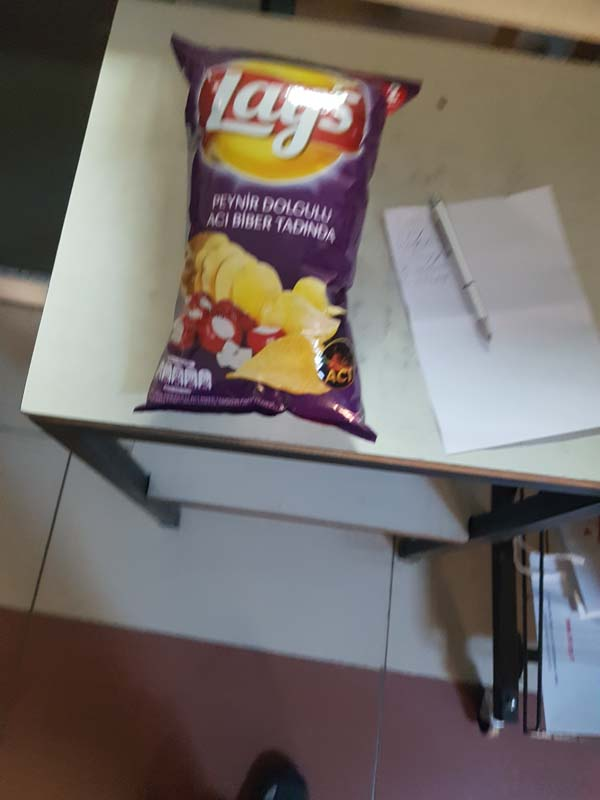layspeynirsoslu: (135, 23, 400, 491)
